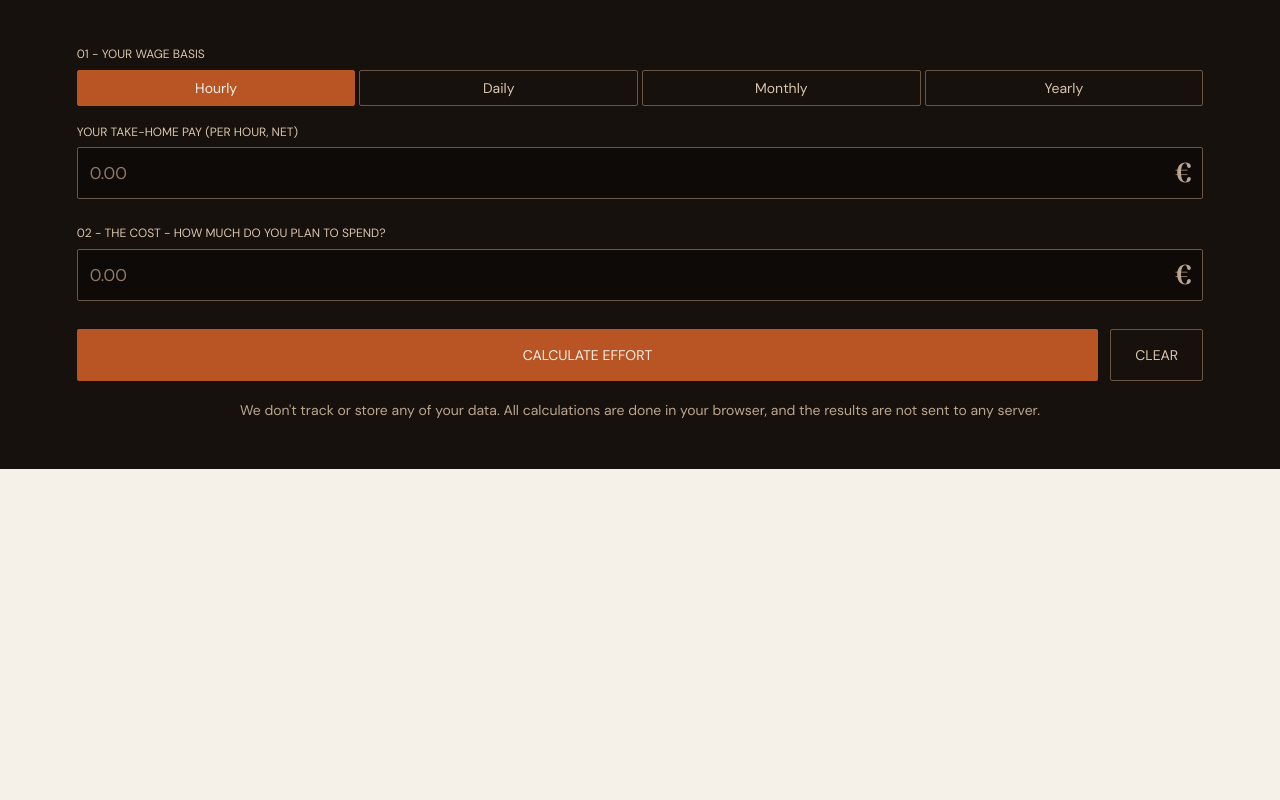
CalculatorSection › resets the wage metadata when the user changes the income basis
Type "20" into the number field labelled "Your take-home pay (per hour, net)" at (640, 173), box [77,147,1203,199]
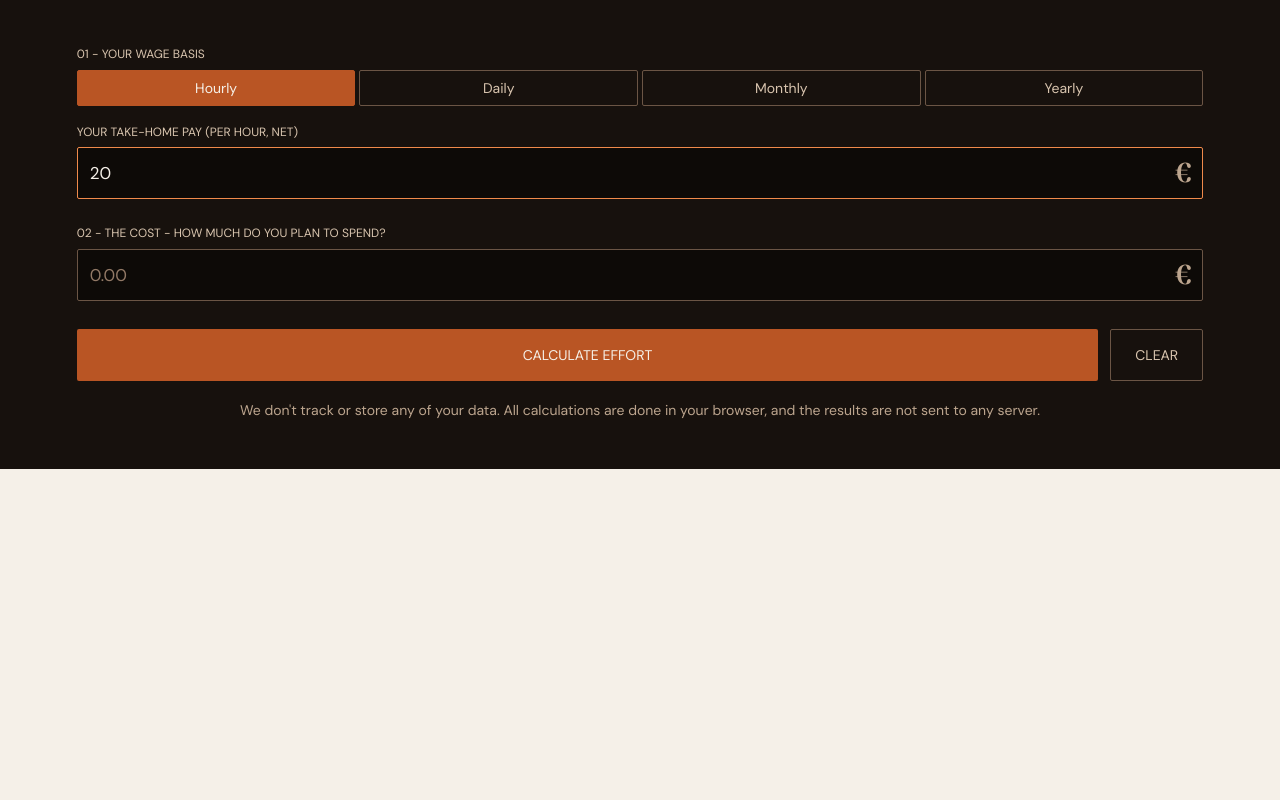
Click the button "Monthly" at (781, 88), box [642,70,921,106]
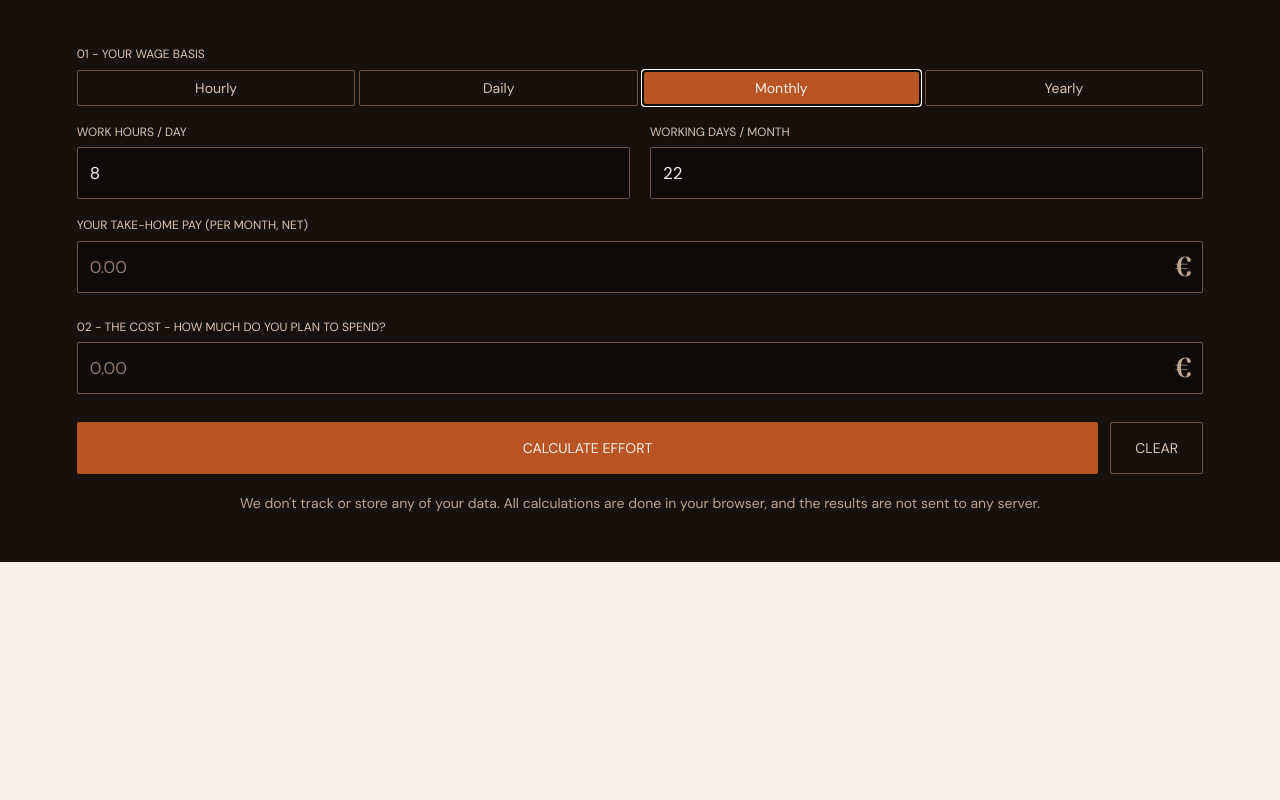
Check: the number field labelled "Work hours / day" holds "8", box [77,147,630,199]
Check: the number field labelled "Working days / month" holds "22", box [650,147,1203,199]
Check: the number field labelled "Your take-home pay (per month, net)" is not empty, box [77,241,1203,293]
